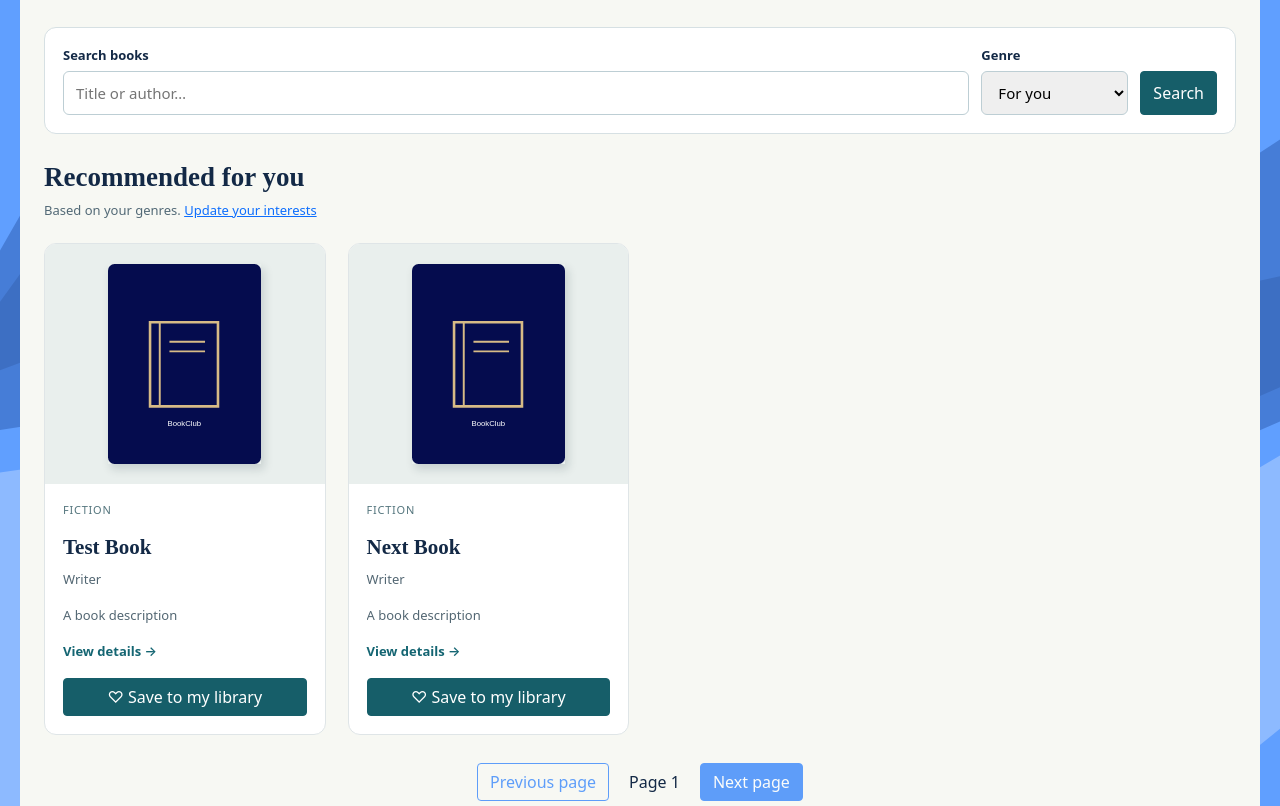
it: reject and undo preserve the displayed book
(page scrolled)
expect the picture with alt text "Test Book" is shown: met, box x1=108 y1=264 x2=261 y2=464
Click the button named "View Test Book" at (185, 364), box x1=45 y1=244 x2=324 y2=484
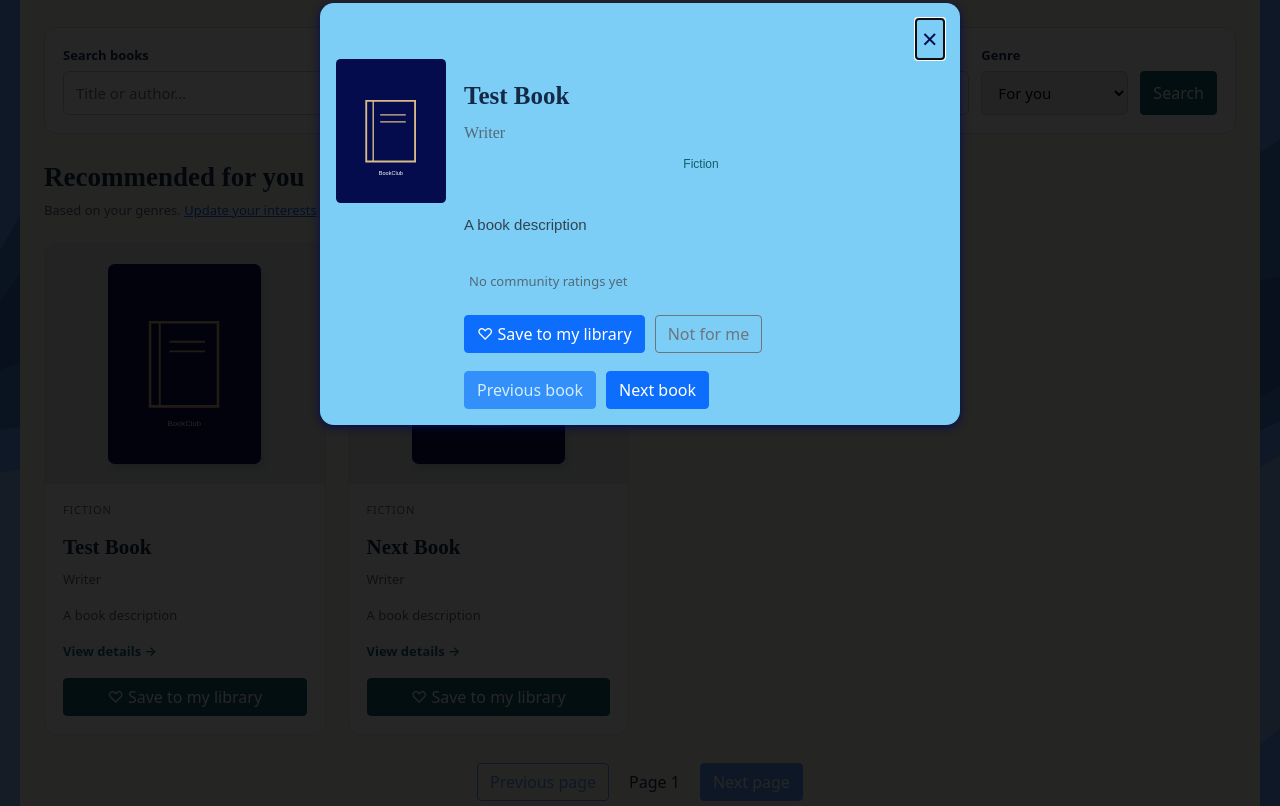
Click the button "Not for me" at (708, 334), box x1=655 y1=315 x2=762 y2=353
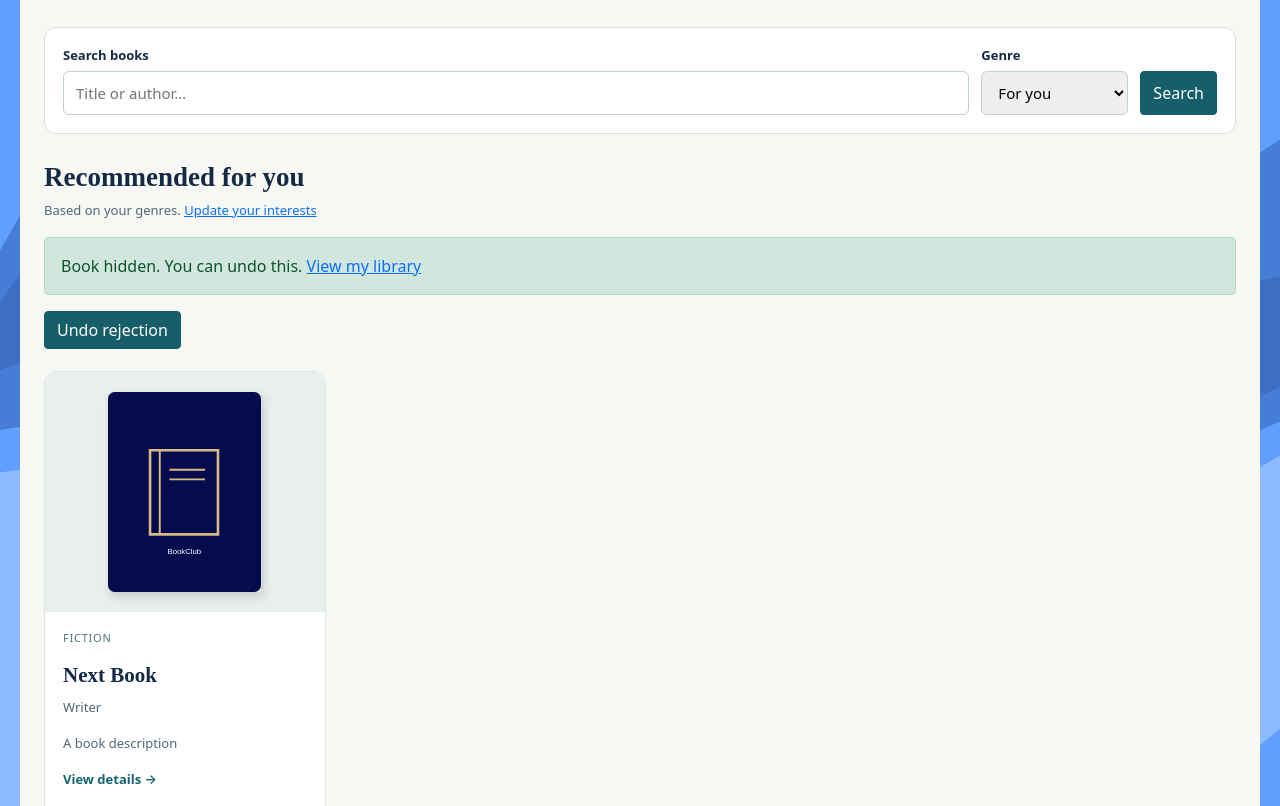
expect the picture with alt text "Next Book" is shown: met, box x1=108 y1=392 x2=261 y2=592
expect the text with alt text "Test Book" is gone: met
Click the button "Undo rejection" at (112, 330), box x1=44 y1=311 x2=181 y2=349
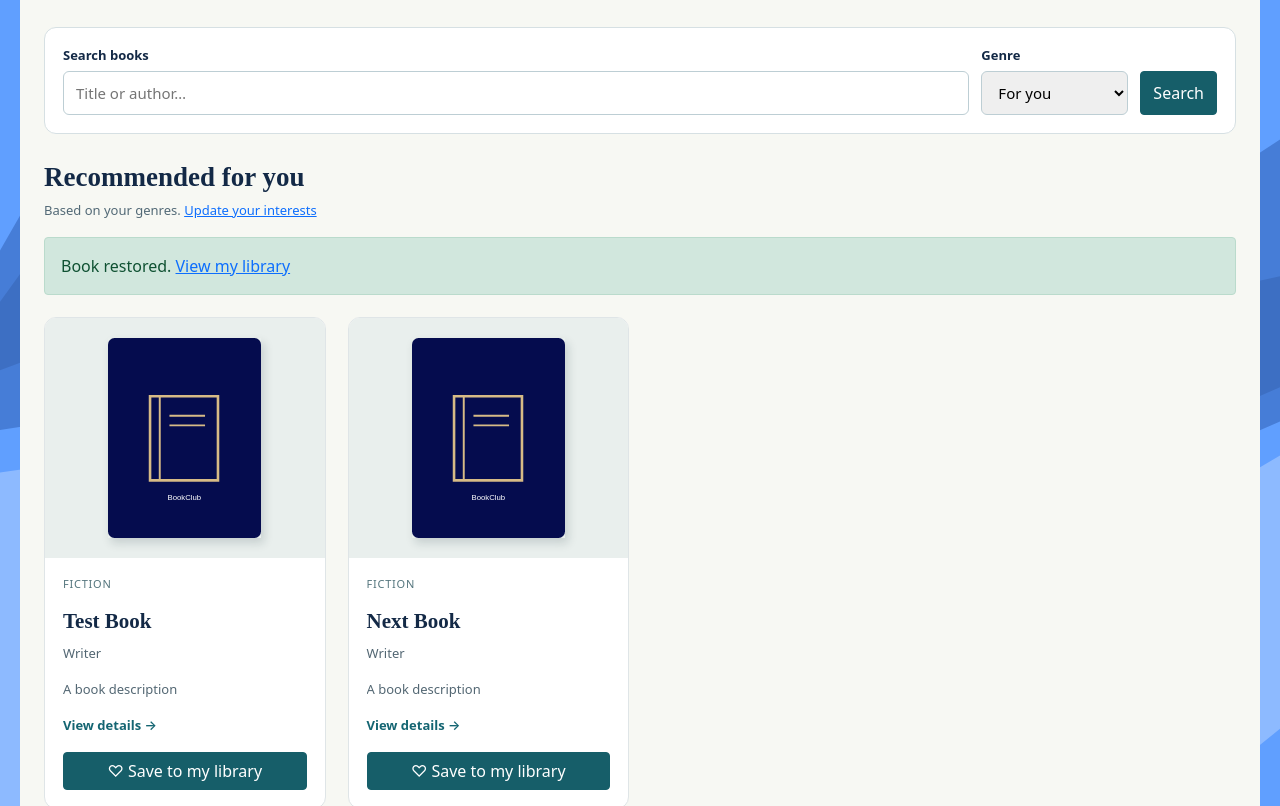
expect the picture with alt text "Test Book" is shown: met, box x1=108 y1=338 x2=261 y2=538
